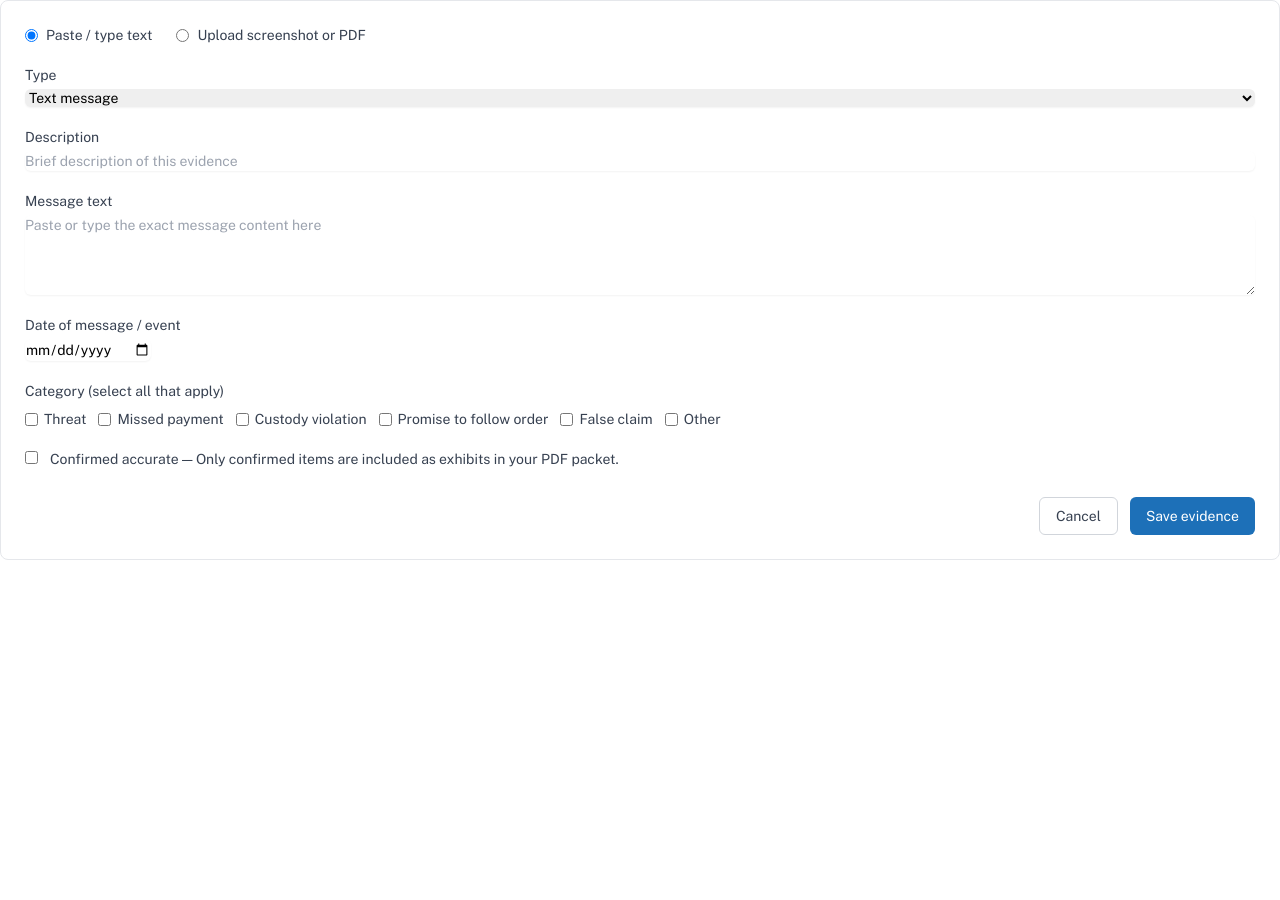
it: EvidenceForm — OCR pre-fill › pre-fills transcription textarea with suggested_transcription from upload response
Switch to upload path
Click the radio button labelled "Upload screenshot or PDF" at [183, 35], box x1=176 y1=28 x2=189 y2=42
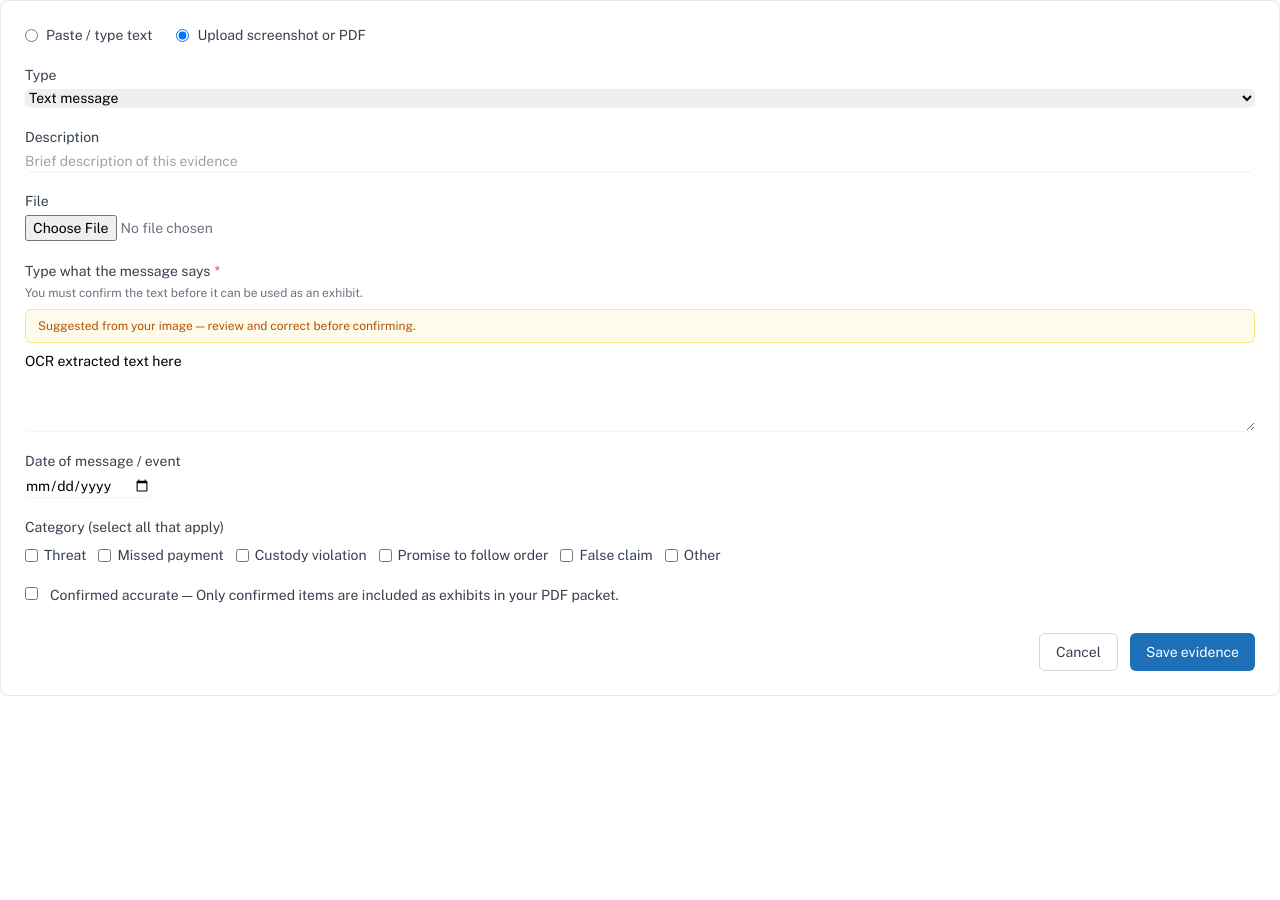
Result: the text box labelled "Type what the message says*" holds "OCR extracted text here" at x1=25 y1=351 x2=1255 y2=431
